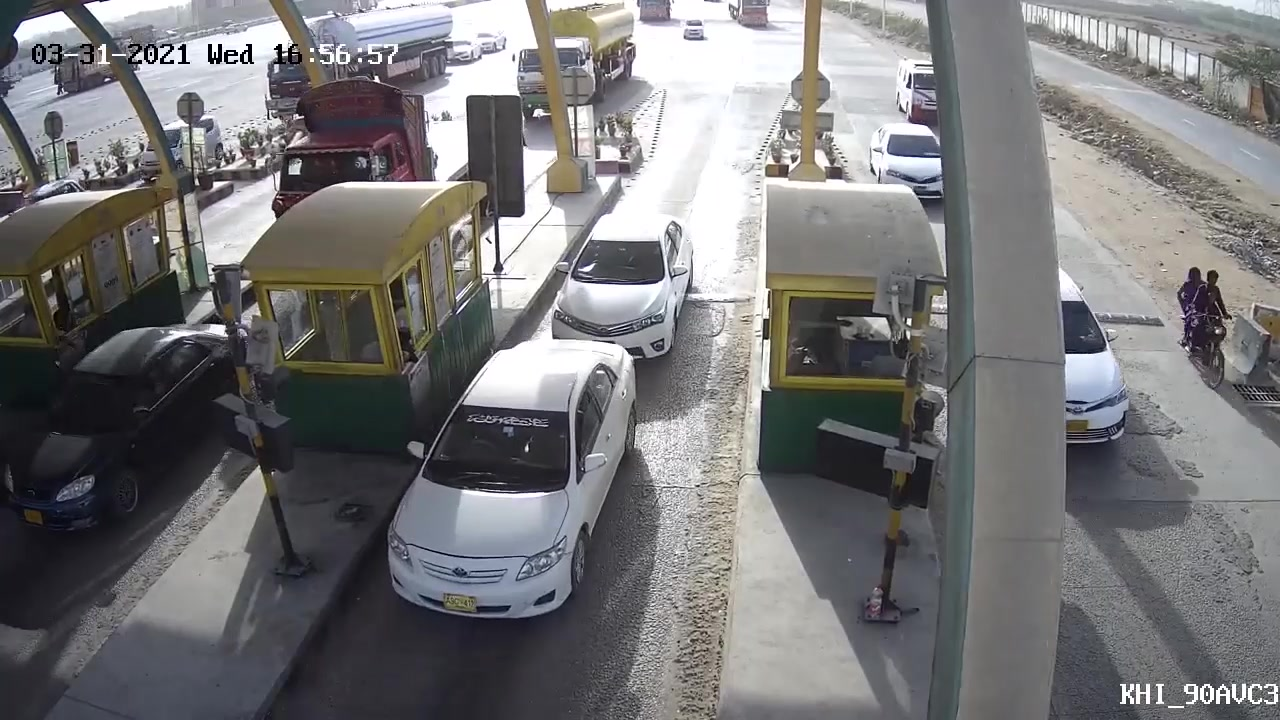F1: (374, 339, 639, 633), (543, 209, 700, 362)
